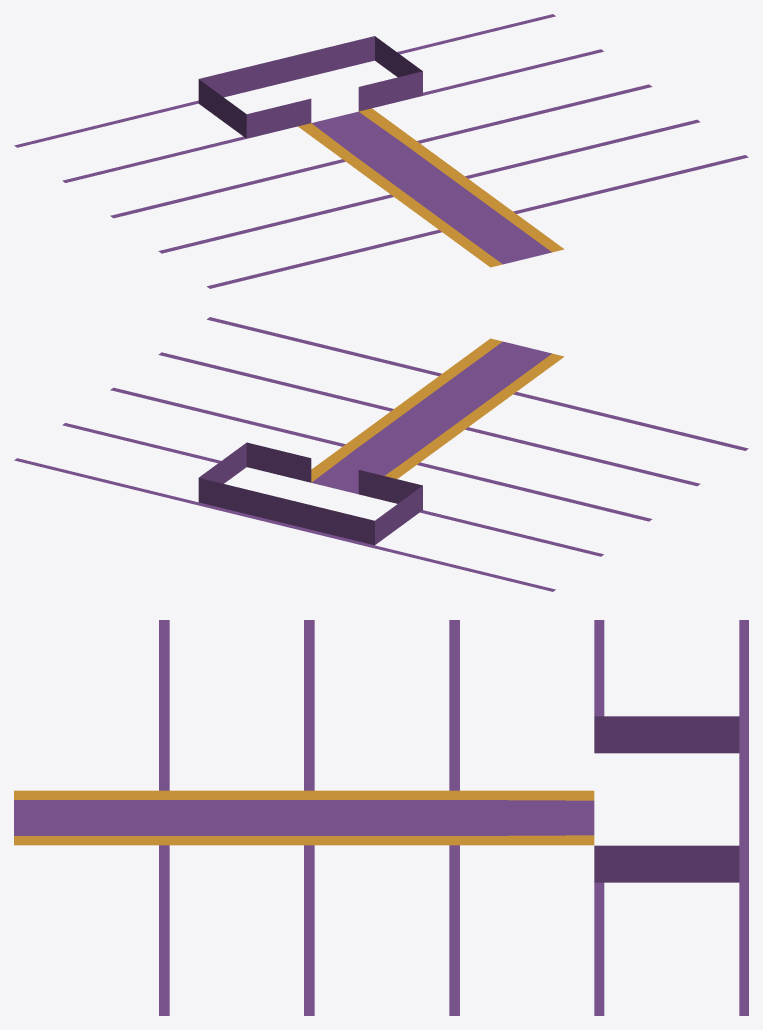
File: FloorEmbelishments.fbx
The picture shows the model from 3 angles, top to bottom: view 1: azimuth 30°, elevation 25°; view 2: azimuth 150°, elevation 25°; view 3: azimuth 270°, elevation 25°; orthographic projection. The views are drawn at different scales.
Visible parts, largest first — view 1: FloorPurpleAccents, FloorGoldenTrim; view 2: FloorPurpleAccents, FloorGoldenTrim; view 3: FloorPurpleAccents, FloorGoldenTrim.
Part boxes in pixels (<box>): FloorPurpleAccents: <box>14,14,748,288</box>; FloorGoldenTrim: <box>298,108,564,267</box>; FloorPurpleAccents: <box>14,317,748,591</box>; FloorGoldenTrim: <box>311,338,564,482</box>; FloorPurpleAccents: <box>14,620,748,1015</box>; FloorGoldenTrim: <box>14,790,594,845</box>.
Bounding box in the file's own units: 194 × 8.45 × 152.
